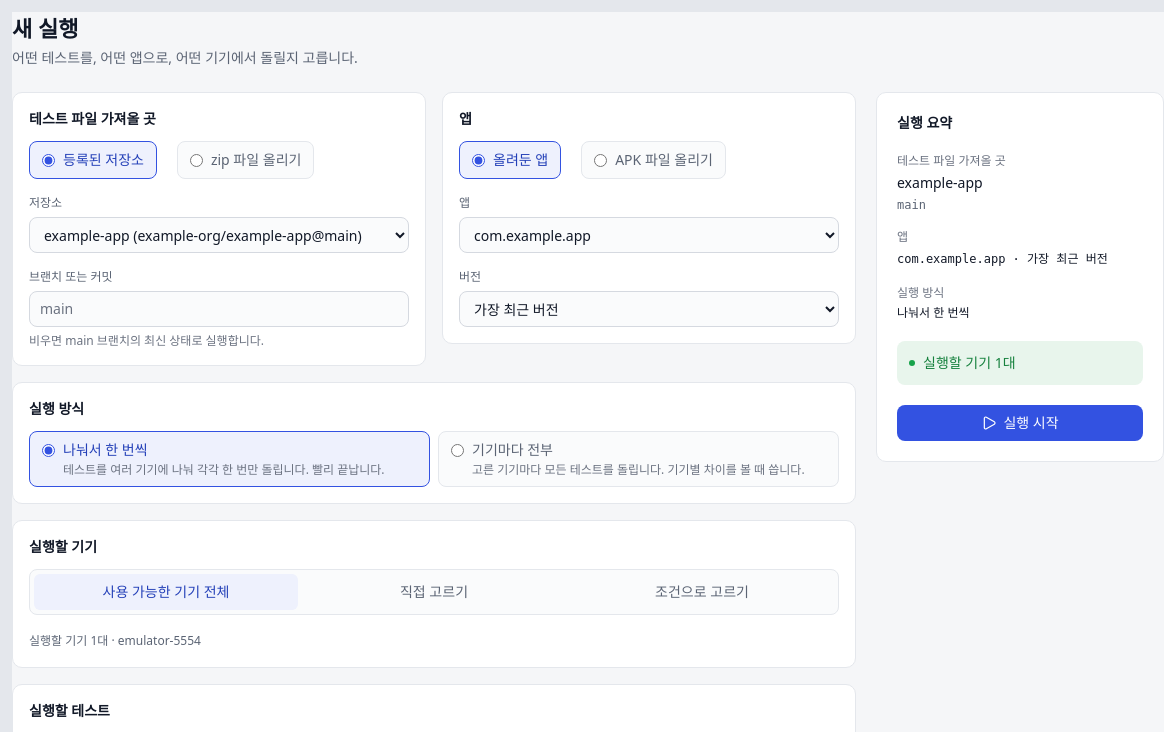
shows no_matching_devices without losing form values or navigating
Expected: the dropdown labelled "저장소" is shown, [29,217,409,253]
Type "release" into the field labelled "브랜치 또는 커밋". click: (219, 309)
box: [29,291,409,327]
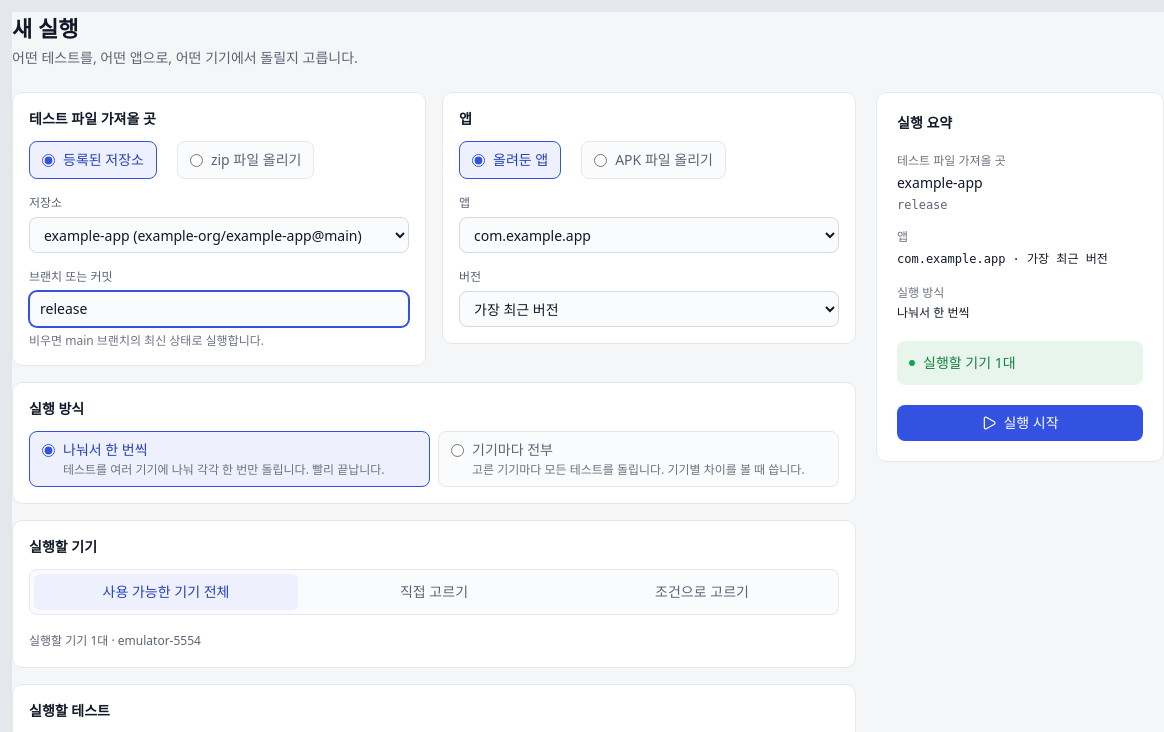
Click the button "실행 시작". click: (1020, 423)
box: [897,405,1143,441]
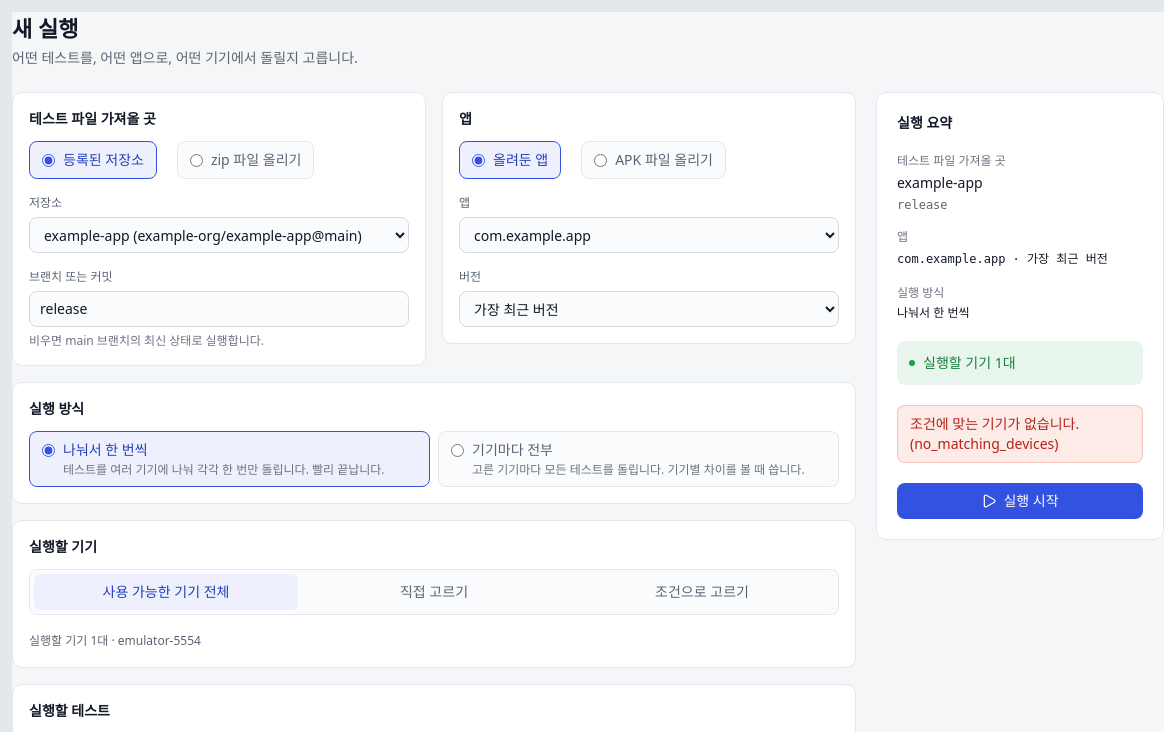
Expected: the message "조건에 맞는 기기가 없습니다. (no_matching_devices)" is shown, [897,405,1143,463]
